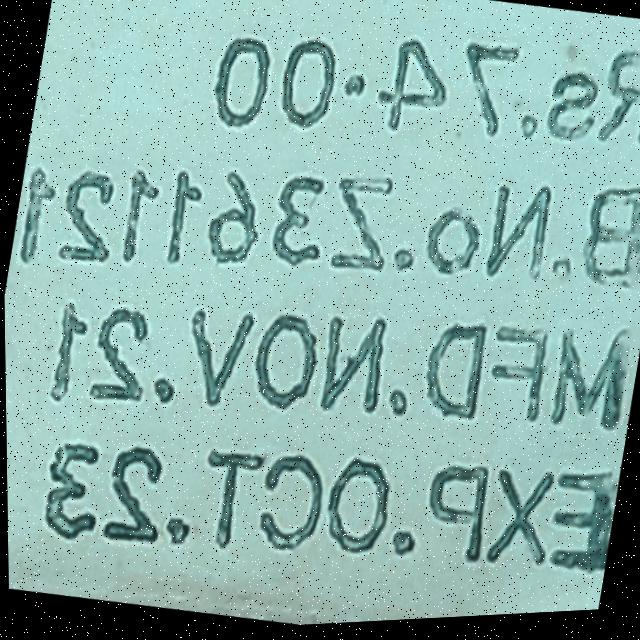sentence: (8, 149, 640, 294), (43, 443, 616, 579), (49, 304, 628, 436), (214, 33, 640, 151)
